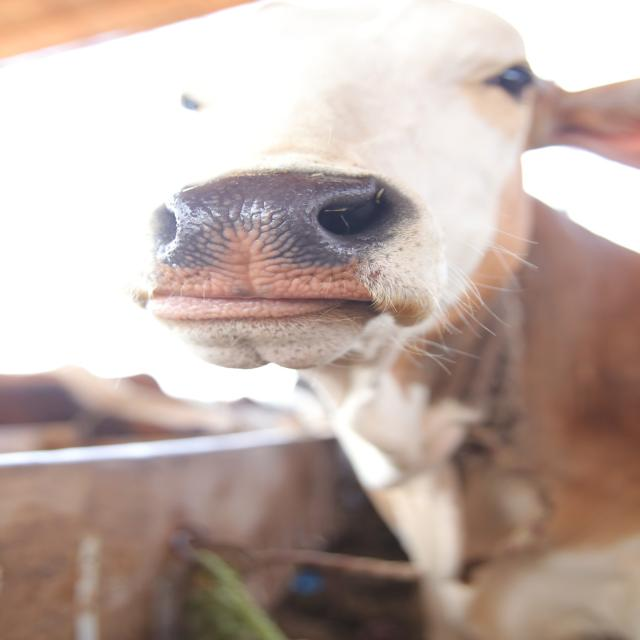muzzles: (151, 164, 417, 315)
